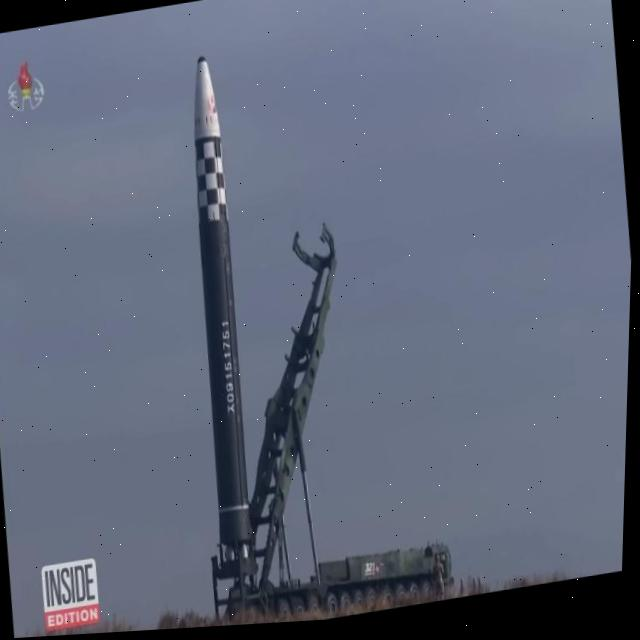missile: (166, 49, 270, 588)
